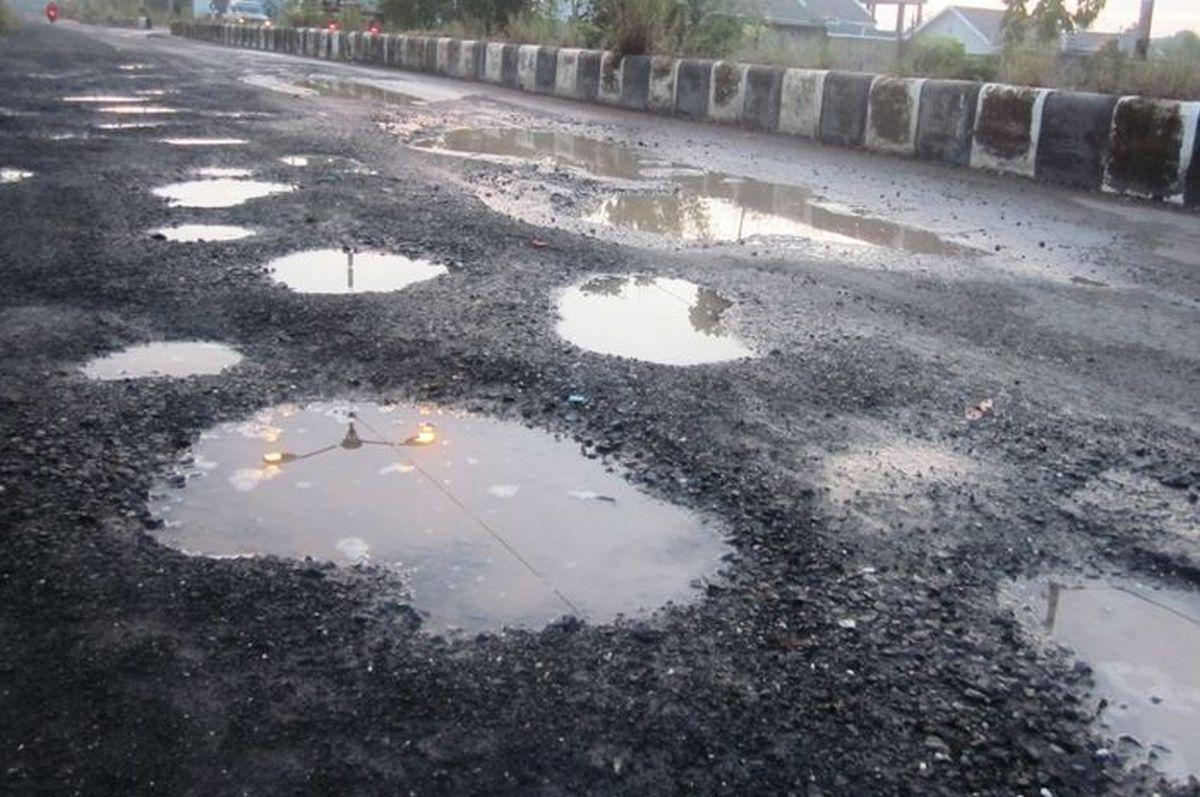Pothole: (186, 391, 762, 646), (871, 398, 1200, 797), (376, 111, 1002, 285), (793, 376, 1024, 528), (43, 51, 297, 158), (541, 248, 749, 365), (66, 308, 279, 411), (222, 243, 478, 302), (278, 58, 444, 120), (131, 158, 297, 206), (131, 208, 264, 263), (0, 98, 57, 213), (139, 126, 252, 166), (256, 146, 361, 176)
